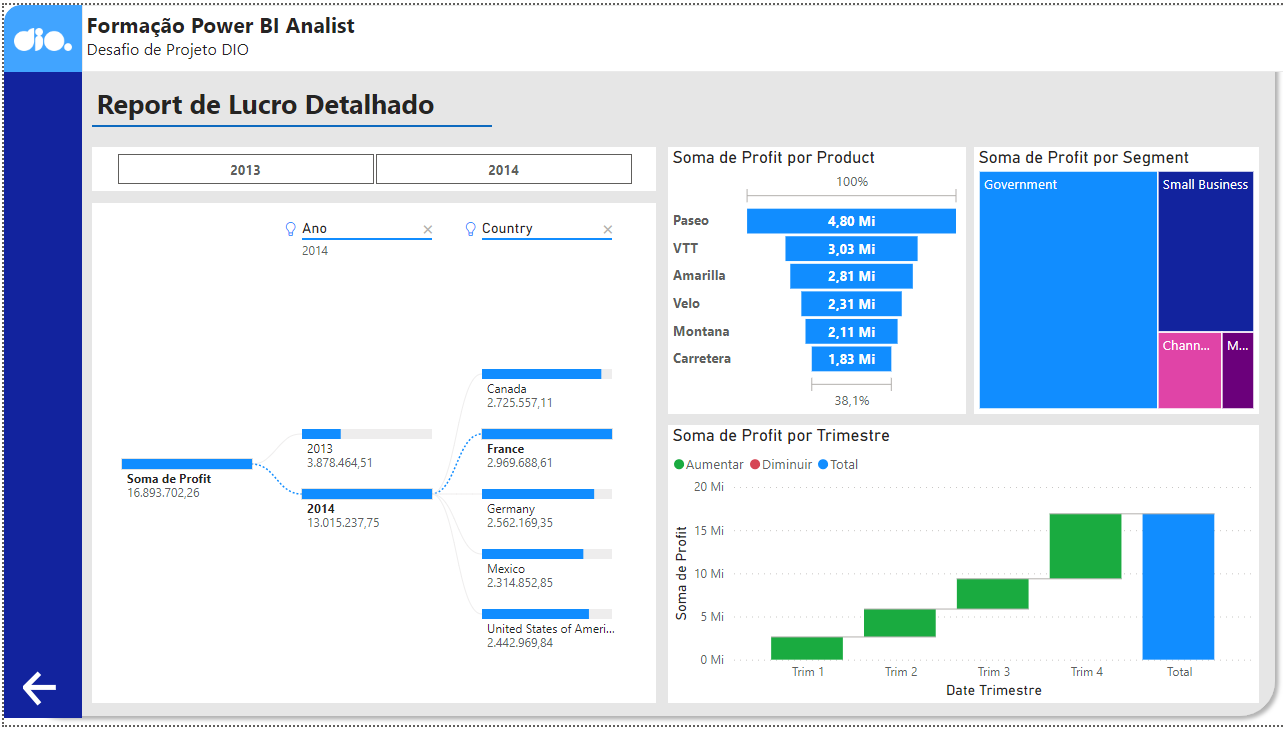

This screenshot's page, from the dashboard's own definition file:
{"tool":"powerbi","page":{"name":"Página 2","canvas":[1280,720],"ordinal":1},"visuals":[{"type":"shape","title":"Container Geral","box":[9.7,0,1270.3,720.2],"z":0},{"type":"shape","title":"ContainerLateral - 2","box":[0,0,77.6,712.9],"z":1000},{"type":"shape","title":"ContainerLateral - 1","box":[0,0,78,67],"z":2000},{"type":"group","id":"g1","title":"Title Report","box":[88,75,542,67],"z":3000},{"type":"shape","title":"Cabeçalho - Container","box":[78,0,1202,67],"z":4000},{"type":"textbox","title":"Cabeçalho","box":[78,0,1202,67],"z":5000},{"type":"actionButton","title":"Botão - Proxima pagina","box":[15,662,47,43],"z":7000},{"type":"treemap","fields":{"Values":["Sum(financials.Profit)"],"Group":["financials.Segment"]},"box":[970,142,285,267],"z":8000},{"type":"funnel","fields":{"Category":["financials.Product"],"Y":["Sum(financials.Profit)"]},"box":[664,142,298,267],"z":9000},{"type":"waterfallChart","fields":{"Y":["Sum(financials.Profit)"],"Category":["financials.Date.Variation.Hierarquia de datas.Trimestre"]},"box":[664,420,591,278],"z":10000},{"type":"decompositionTreeVisual","fields":{"Analyze":["Sum(financials.Profit)"],"ExplainBy":["financials.Date.Variation.Hierarquia de datas.Ano","financials.Country"]},"box":[88,198,564,500],"z":10001},{"type":"slicer","fields":{"Values":["financials.Date.Variation.Hierarquia de datas.Ano"]},"box":[88,142,564,44],"z":10002},{"type":"image","title":"Logo - dio","box":[5,8,68,52],"z":10003},{"type":"shape","title":"Title - Separator","box":[88,100,400,42],"z":13250,"group":"g1"},{"type":"textbox","title":"Title","box":[88,75,542,46],"z":13500,"group":"g1"}]}

Visuals, with their boxes in screenshot pixels (x1, y1, x2, y2), scaled from the page's 1280x720 canvas onto the 1283x732 screenshot:
"Container Geral" shape: 10:0:1282:731
"ContainerLateral - 2" shape: 0:0:78:725
"ContainerLateral - 1" shape: 0:0:78:68
"Title Report" group: 88:76:631:144
"Cabeçalho - Container" shape: 78:0:1282:68
"Cabeçalho" textbox: 78:0:1282:68
"Botão - Proxima pagina" actionButton: 15:673:62:717
treemap - Sum(financials.Profit) x financials.Segment: 972:144:1258:416
funnel - financials.Product x Sum(financials.Profit): 666:144:964:416
waterfallChart - Sum(financials.Profit) x financials.Date.Variation.Hierarquia de datas.Trimestre: 666:427:1258:710
decompositionTreeVisual - Sum(financials.Profit) x financials.Date.Variation.Hierarquia de datas.Ano: 88:201:654:710
slicer - financials.Date.Variation.Hierarquia de datas.Ano: 88:144:654:189
"Logo - dio" image: 5:8:73:61
"Title - Separator" shape: 88:102:489:144
"Title" textbox: 88:76:631:123
